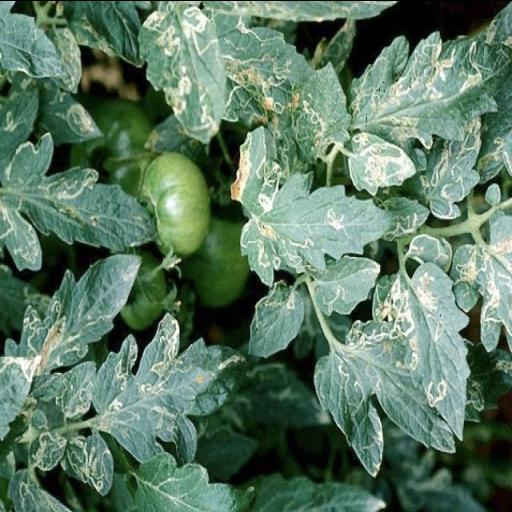Leaf Miner: (88, 312, 246, 462), (312, 318, 456, 476), (0, 130, 158, 270), (4, 254, 140, 402), (351, 28, 512, 148), (372, 260, 470, 440), (239, 172, 395, 284), (137, 0, 228, 146), (416, 115, 482, 219), (244, 278, 306, 358), (347, 130, 417, 196), (312, 256, 380, 314)
